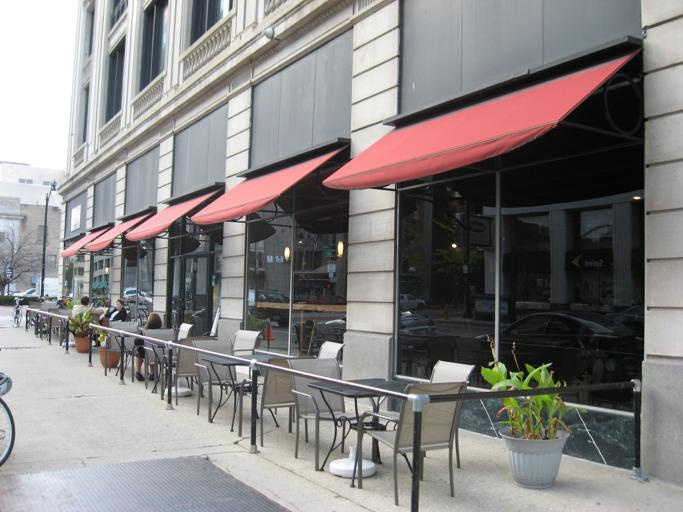non-vehicle: (0, 373, 14, 466), (11, 296, 24, 327)
